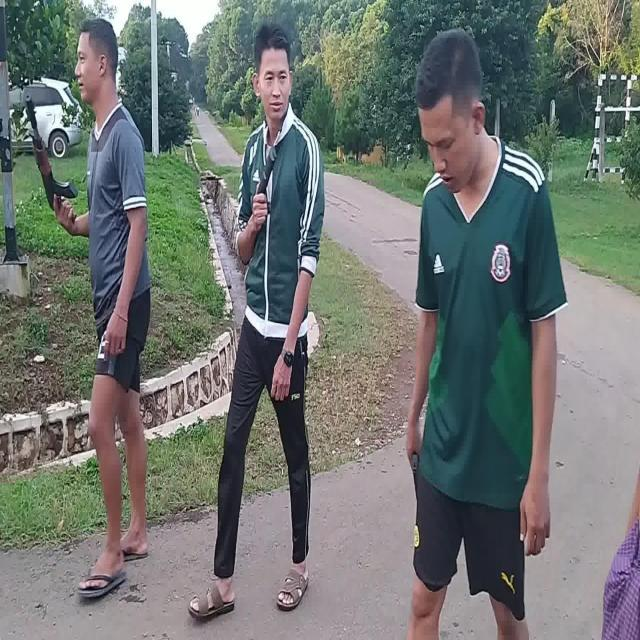gun: (25, 96, 77, 223), (412, 452, 418, 496)
